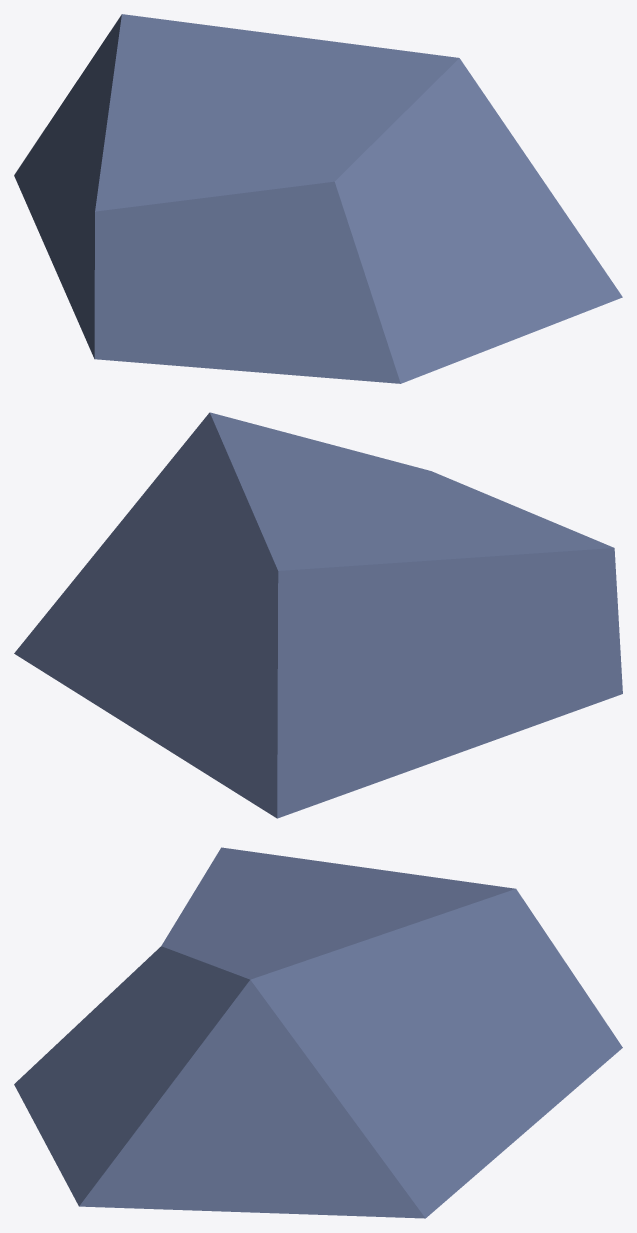
File: piedra_2.fbx
3 renders of one model, top to bottom at view 1: azimuth 30°, elevation 25°; view 2: azimuth 150°, elevation 25°; view 3: azimuth 270°, elevation 25°, orthographic. The views are drawn at different scales.
Visible parts, largest first — view 1: p_piedra_mediana; view 2: p_piedra_mediana; view 3: p_piedra_mediana.
Part boxes in pixels (bbox=[...]): p_piedra_mediana: bbox=[14, 14, 622, 383]; p_piedra_mediana: bbox=[14, 412, 622, 818]; p_piedra_mediana: bbox=[14, 847, 622, 1218].
Size of the model in its own units: 85.55 by 32.73 by 94.87.
